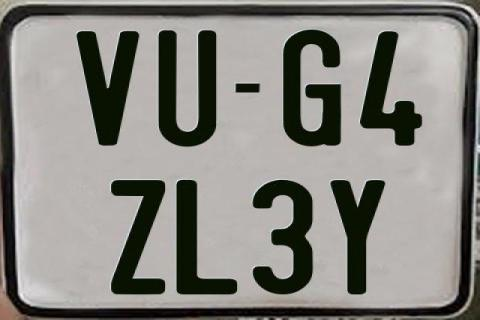0: (357, 30, 420, 148), (251, 180, 311, 294)
G: (280, 30, 338, 152)
L: (173, 178, 238, 294)
U: (156, 30, 220, 148)
V: (75, 30, 142, 148)
Y: (327, 180, 385, 296)
Z: (108, 178, 167, 292)
